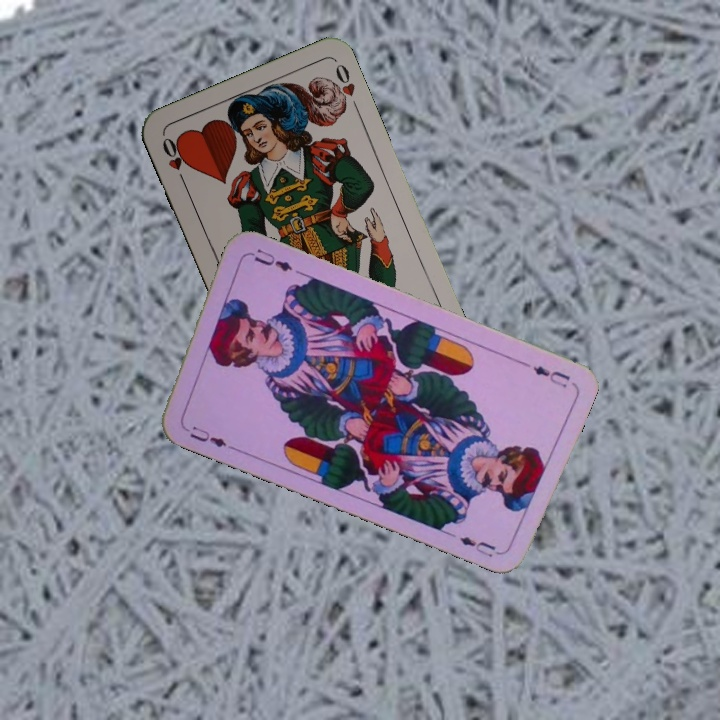EU: (179, 421, 235, 452), (528, 362, 573, 390)
HO: (158, 133, 190, 189)
